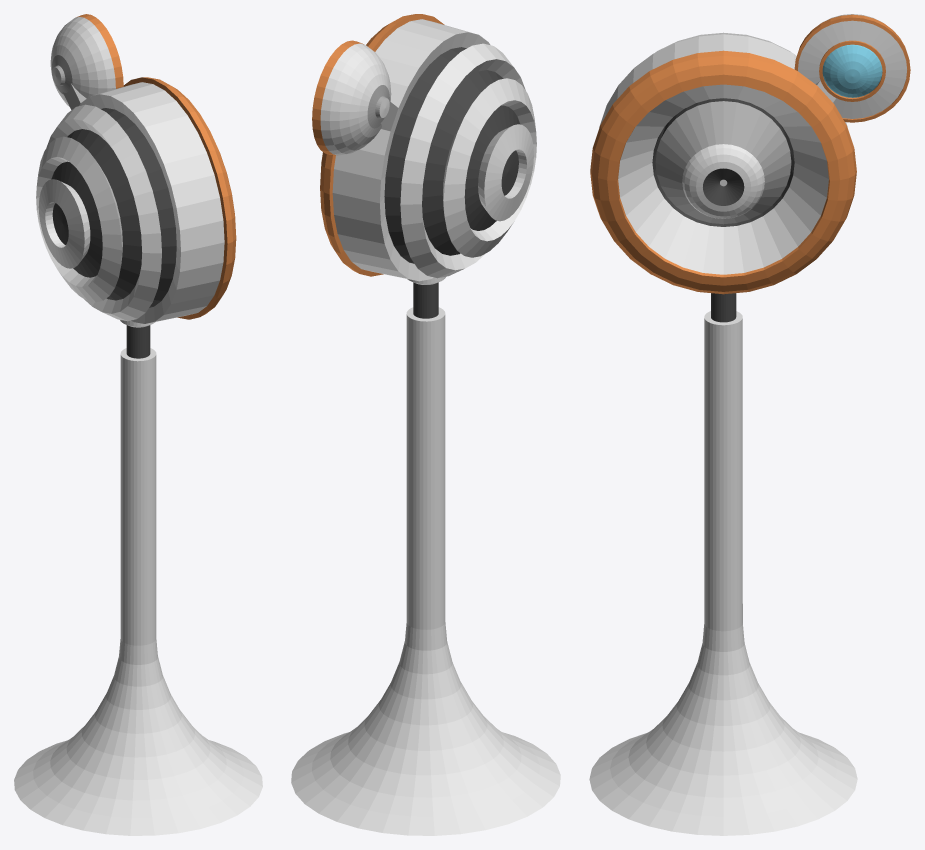
File: Speaker.fbx
The picture shows the model from 3 angles, left to right: view 1: azimuth 30°, elevation 25°; view 2: azimuth 150°, elevation 25°; view 3: azimuth 270°, elevation 25°; orthographic projection. The views are drawn at different scales.
Parts seen in each view (by area): view 1: SpeakerFrame, Speaker_LOD0, OcularFrame, SpeakerHydraulic; view 2: Speaker_LOD0, SpeakerFrame, OcularFrame, SpeakerHydraulic; view 3: Speaker_LOD0, SpeakerFrame, Speaker_inside, OcularFrame, OcularLense, SpeakerHydraulic.
Part boxes in pixels (x1=…): SpeakerFrame: x1=36, y1=77, x2=236, y2=323; Speaker_LOD0: x1=14, y1=348, x2=262, y2=835; OcularFrame: x1=50, y1=14, x2=123, y2=106; SpeakerHydraulic: x1=126, y1=325, x2=150, y2=358; Speaker_LOD0: x1=291, y1=307, x2=560, y2=835; SpeakerFrame: x1=320, y1=14, x2=536, y2=281; OcularFrame: x1=312, y1=40, x2=391, y2=155; SpeakerHydraulic: x1=413, y1=282, x2=438, y2=318; Speaker_LOD0: x1=589, y1=311, x2=857, y2=835; SpeakerFrame: x1=590, y1=32, x2=856, y2=294; Speaker_inside: x1=655, y1=98, x2=791, y2=224; OcularFrame: x1=794, y1=14, x2=910, y2=122; OcularLense: x1=822, y1=44, x2=882, y2=97; SpeakerHydraulic: x1=711, y1=293, x2=736, y2=322.
Size of what is drawn, in the model's own units: 208 by 660 by 249.
